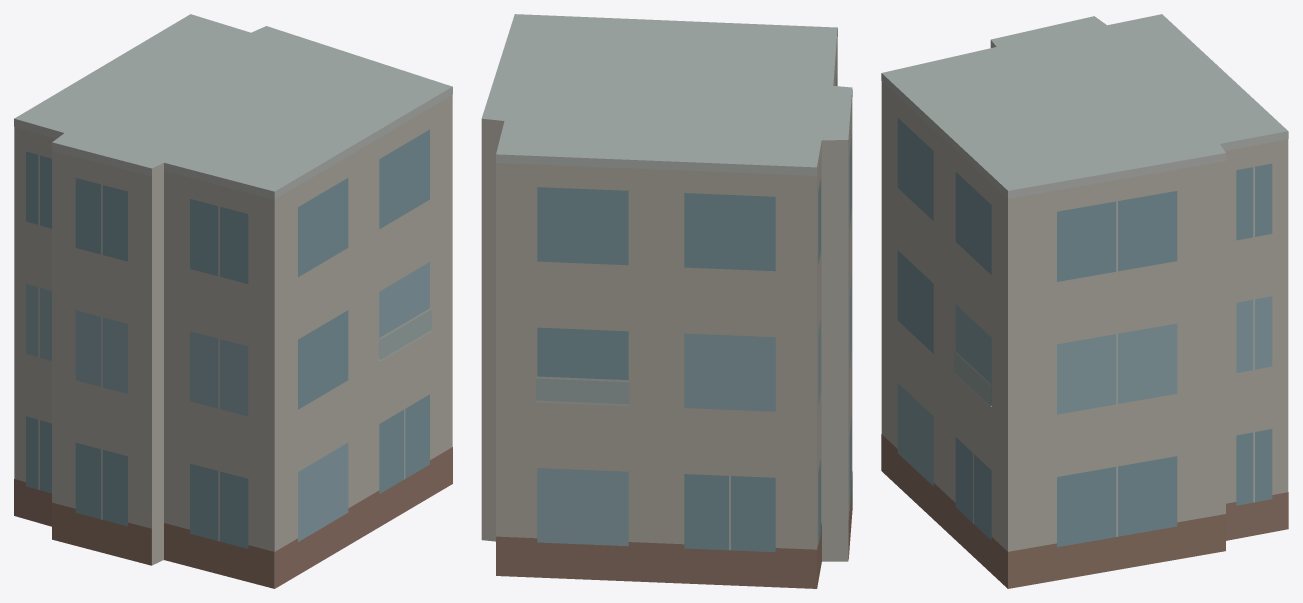
File: survey-upis-32916755.glb
3 renders of one model, left to right at view 1: azimuth 30°, elevation 25°; view 2: azimuth 150°, elevation 25°; view 3: azimuth 270°, elevation 25°, orthographic. The views are drawn at different scales.
Parts seen in each view (by area): view 1: survey-upis-32916755.tmp; view 2: survey-upis-32916755.tmp; view 3: survey-upis-32916755.tmp.
Boxes of the visible parts, x1=… form: survey-upis-32916755.tmp: x1=14, y1=14, x2=452, y2=588; survey-upis-32916755.tmp: x1=481, y1=14, x2=852, y2=588; survey-upis-32916755.tmp: x1=881, y1=14, x2=1288, y2=588.
Bounding box in the file's own units: 11.54 × 12.1 × 11.22.
